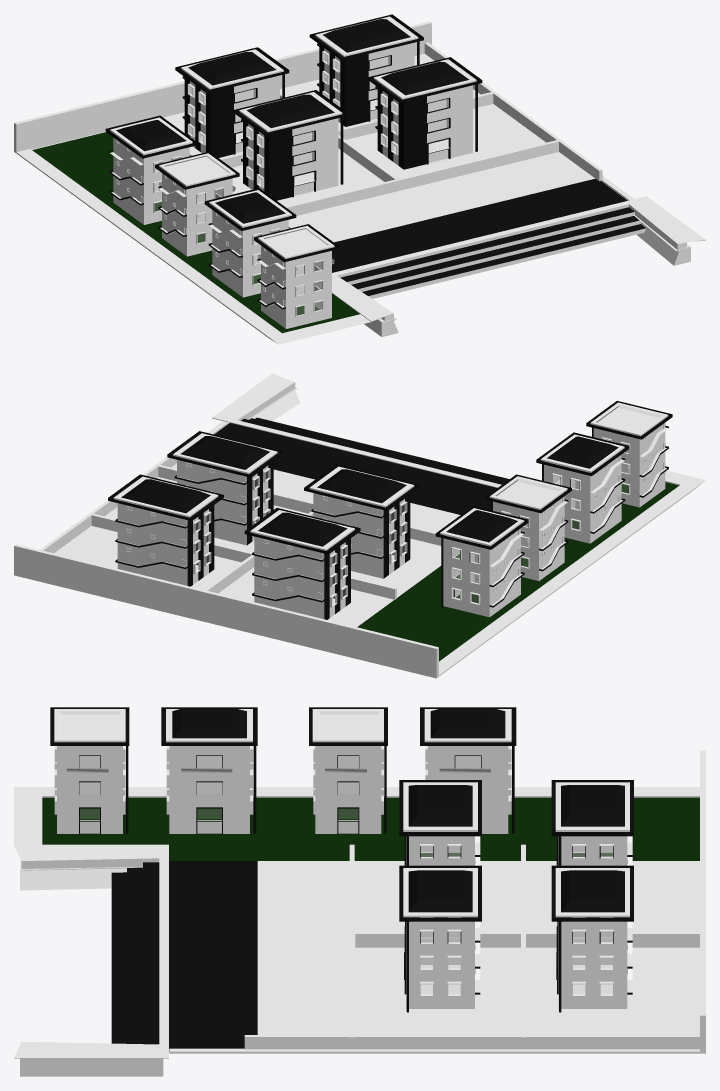
File: Port buildings.glb
The picture shows the model from 3 angles, top to bottom: view 1: azimuth 30°, elevation 25°; view 2: azimuth 150°, elevation 25°; view 3: azimuth 270°, elevation 25°; orthographic projection. The views are drawn at different scales.
Parts seen in each view (by area): view 1: Plane, Cube.003, Cube.009, Cube.011, Cube.012, Cube.010, Cube.015, Cube, Cube.002, Cube.007, Cube.005; view 2: Plane, Cube.003, Cube.010, Cube.012, Cube.011, Cube.007, Cube.009, Cube.002, Cube, Cube.005, Cube.015; view 3: Plane, Cube.003, Cube.015, Cube.002, Cube.009, Cube.010, Cube, Cube.005, Cube.007, Cube.011, Cube.012.
Part boxes in pixels (x1=…): Plane: x1=32, y1=54, x2=645, y2=333; Cube.003: x1=14, y1=21, x2=705, y2=344; Cube.009: x1=368, y1=57, x2=482, y2=169; Cube.011: x1=233, y1=90, x2=347, y2=200; Cube.012: x1=175, y1=47, x2=289, y2=157; Cube.010: x1=309, y1=14, x2=423, y2=126; Cube.015: x1=219, y1=42, x2=602, y2=215; Cube: x1=254, y1=224, x2=338, y2=328; Cube.002: x1=204, y1=188, x2=296, y2=297; Cube.007: x1=105, y1=115, x2=197, y2=224; Cube.005: x1=155, y1=151, x2=239, y2=256; Plane: x1=54, y1=417, x2=678, y2=661; Cube.003: x1=14, y1=373, x2=705, y2=678; Cube.010: x1=108, y1=474, x2=223, y2=586; Cube.012: x1=244, y1=508, x2=360, y2=619; Cube.011: x1=304, y1=464, x2=419, y2=578; Cube.007: x1=435, y1=506, x2=528, y2=617; Cube.009: x1=167, y1=431, x2=283, y2=545; Cube.002: x1=536, y1=432, x2=629, y2=543; Cube: x1=586, y1=401, x2=672, y2=507; Cube.005: x1=485, y1=474, x2=571, y2=580; Cube.015: x1=40, y1=457, x2=441, y2=599; Plane: x1=42, y1=797, x2=699, y2=1051; Cube.003: x1=14, y1=750, x2=705, y2=1076; Cube.015: x1=244, y1=844, x2=699, y2=1049; Cube.002: x1=161, y1=707, x2=257, y2=834; Cube.009: x1=399, y1=865, x2=481, y2=1012; Cube.010: x1=551, y1=865, x2=633, y2=1012; Cube: x1=50, y1=707, x2=129, y2=834; Cube.005: x1=309, y1=707, x2=387, y2=834; Cube.007: x1=420, y1=707, x2=516, y2=833; Cube.011: x1=399, y1=780, x2=481, y2=917; Cube.012: x1=551, y1=780, x2=633, y2=917.
Bounding box in the file's own units: 85.45 × 18.22 × 91.93.
